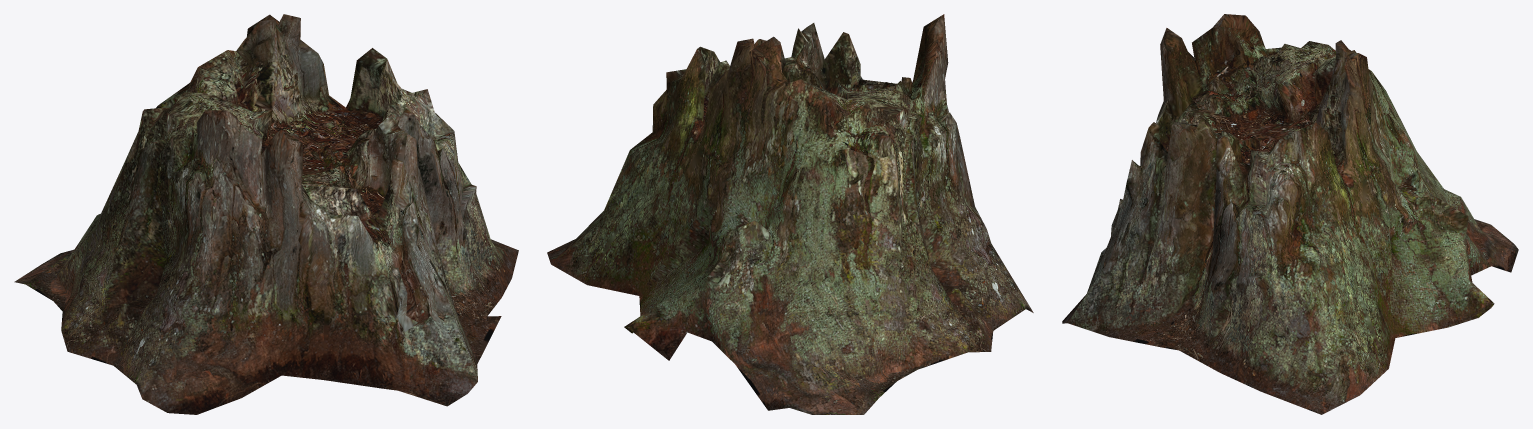
File: Dead_Tree_Stump_okfch01.fbx
3 renders of one model, left to right at view 1: azimuth 30°, elevation 25°; view 2: azimuth 150°, elevation 25°; view 3: azimuth 270°, elevation 25°, orthographic. The views are drawn at different scales.
Visible parts, largest first — view 1: Dead_Tree_Stump_okfch01; view 2: Dead_Tree_Stump_okfch01; view 3: Dead_Tree_Stump_okfch01.
Boxes of the visible parts, x1,y1,x2,y2 form: Dead_Tree_Stump_okfch01: (14,14,518,414); Dead_Tree_Stump_okfch01: (547,14,1033,414); Dead_Tree_Stump_okfch01: (1062,14,1518,414).
Size of the model in its own units: 56 by 34.85 by 52.71.
Materials: 1 (1 with a texture image).
